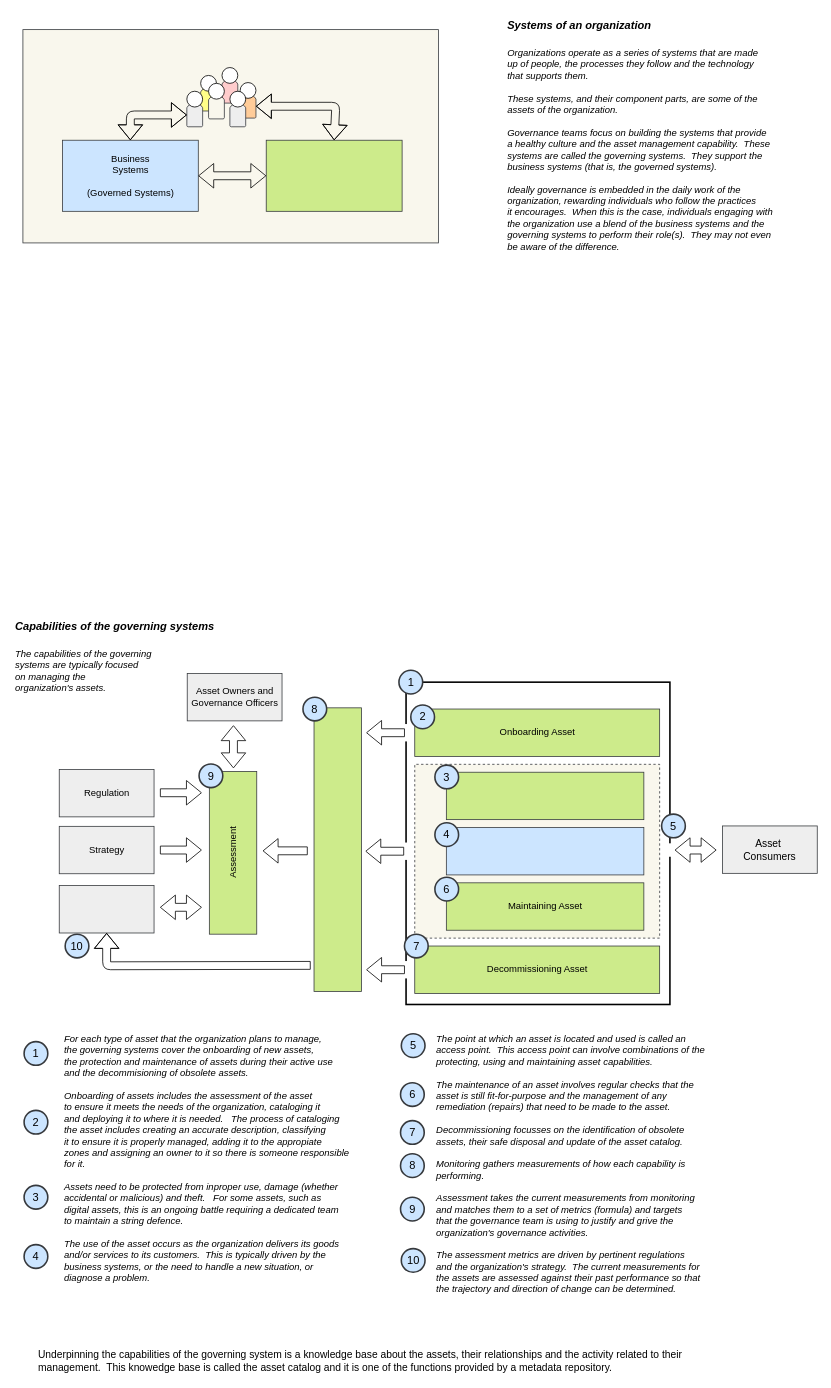
Some shapes in this 831 by 1388 pixel diagram are drawn without their labels. The shapes that lost their labels are listed below. From the top down, each one's box as (x1, y1, x2, y2) in pixels, then its label:
(22, 29, 438, 243): Organization's Operation
(265, 139, 402, 211): Governing Systems
(446, 771, 644, 820): Protecting Asset
(313, 707, 361, 991): Monitoring
(414, 764, 660, 938): Active Use
(405, 681, 670, 1005): Asset Management Lifecycle
(446, 827, 644, 875): Using Asset
(58, 885, 154, 933): Past Performance
